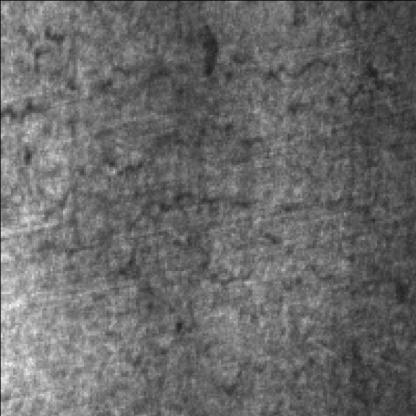crazing: (50, 83, 383, 298)
